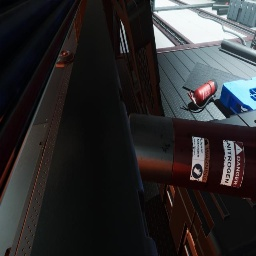FireExtinguisher ]: (187, 79, 218, 109), (224, 2, 229, 5)
NitrogenTank ,: (128, 113, 256, 201)
